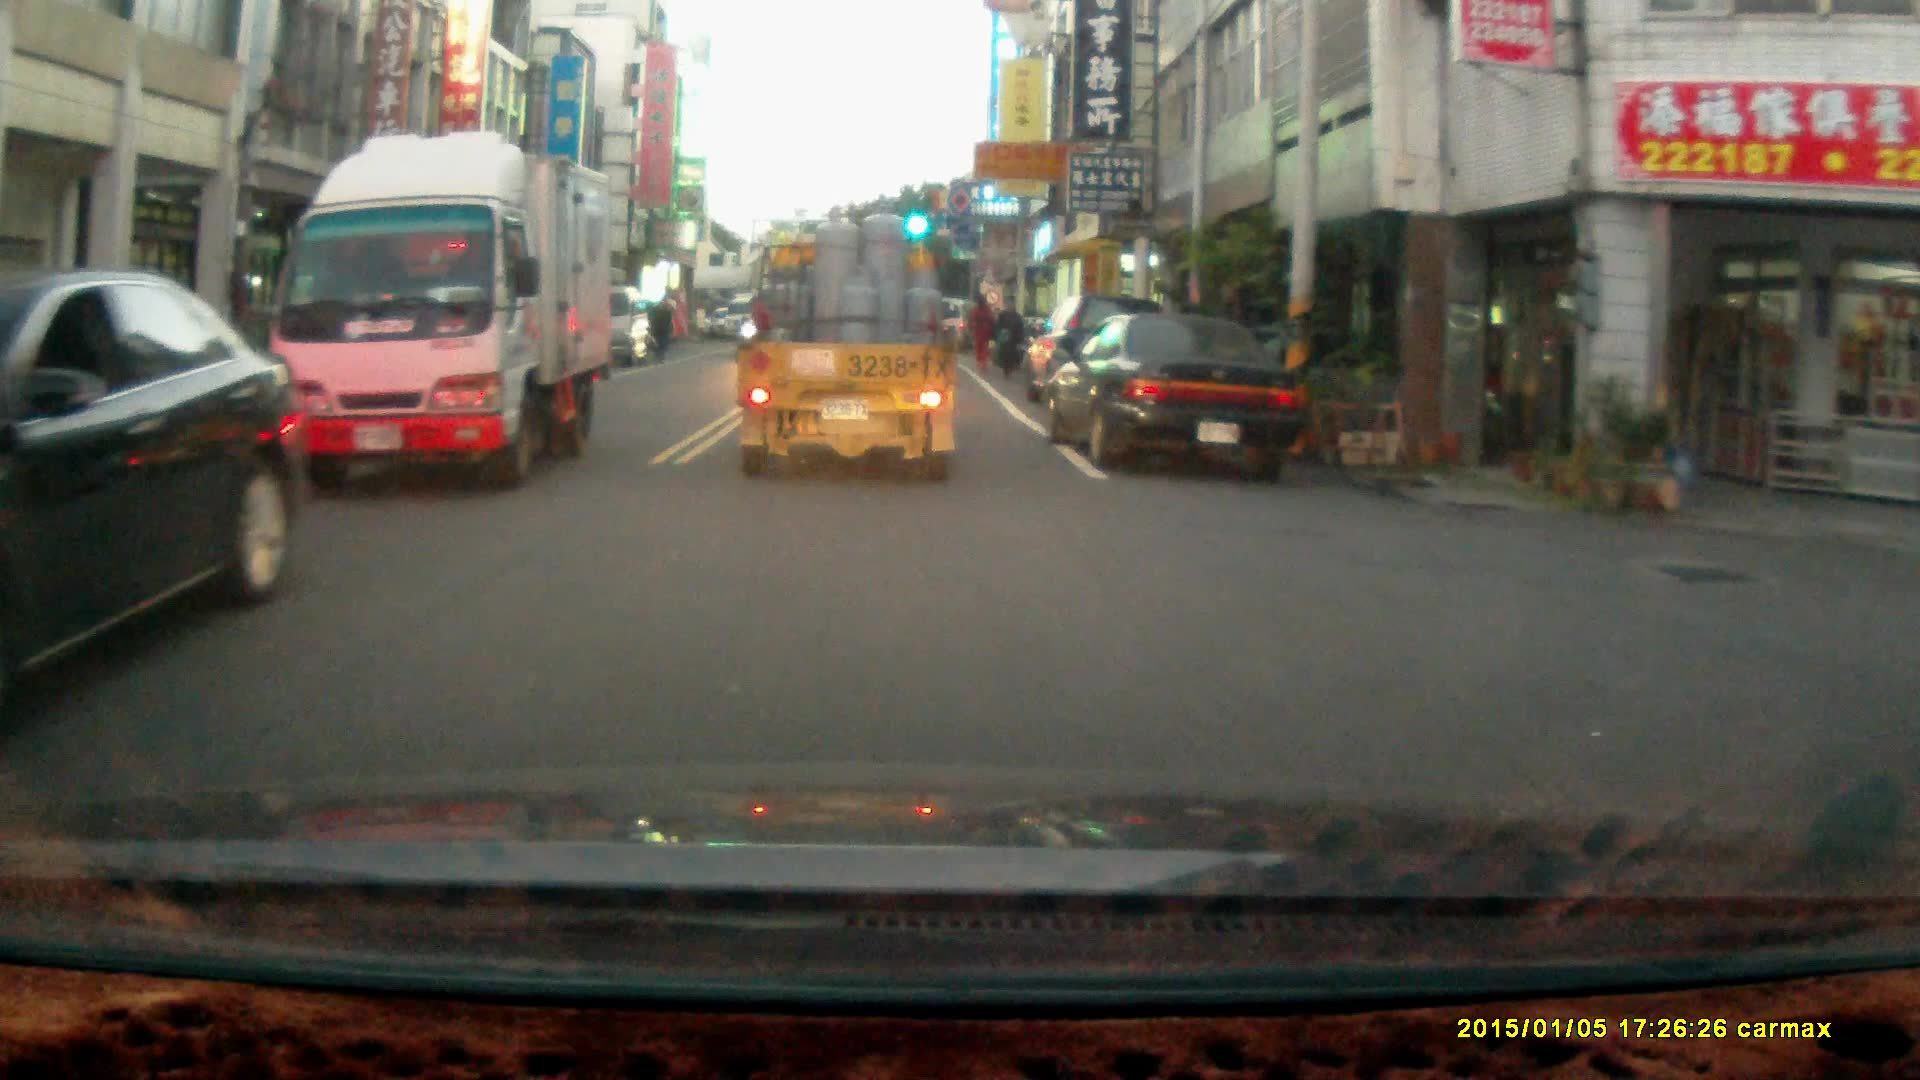pedestrian: (990, 293, 1023, 383), (963, 289, 995, 367), (644, 296, 675, 363)
vehicle: (1, 269, 308, 753), (269, 134, 617, 497), (729, 193, 966, 486), (1049, 308, 1306, 474)
